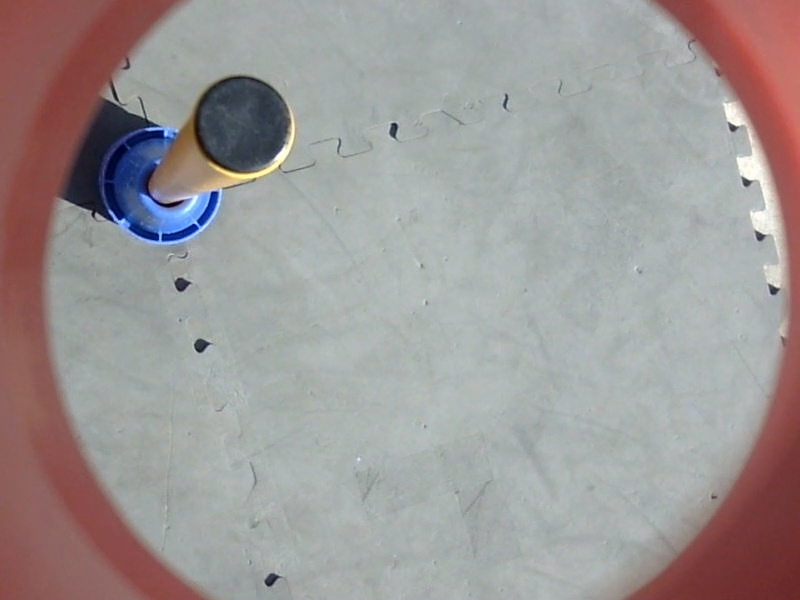tip: (189, 72, 302, 185)
